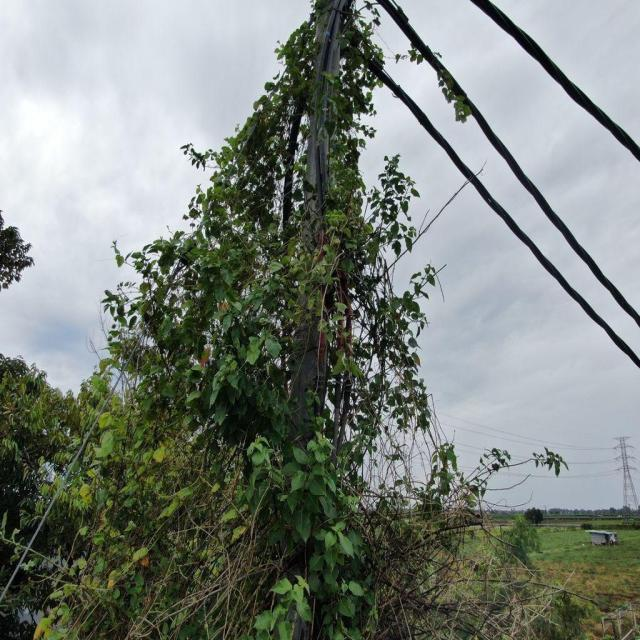critical vegetation: (110, 19, 452, 514)
